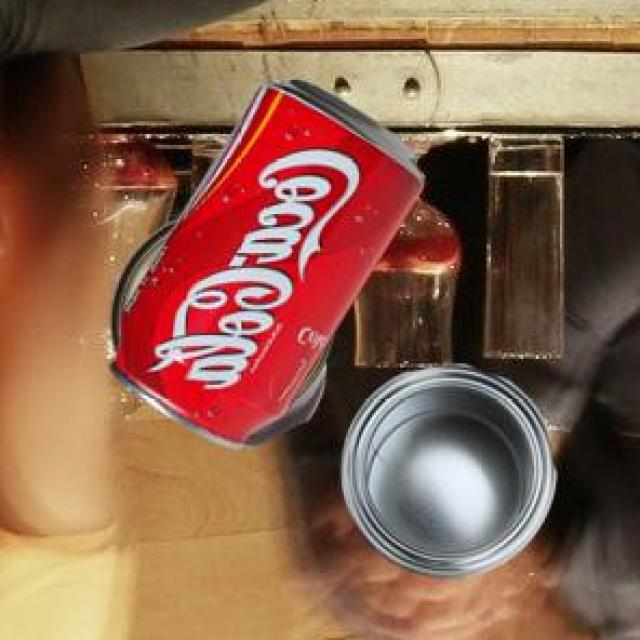logam: (107, 83, 421, 451), (338, 369, 552, 581), (107, 224, 292, 358), (240, 312, 330, 451)
